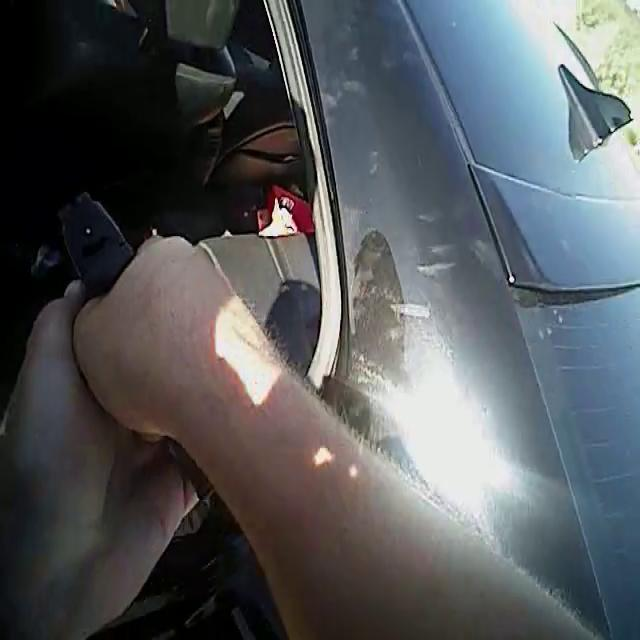gun: (52, 176, 234, 509)
